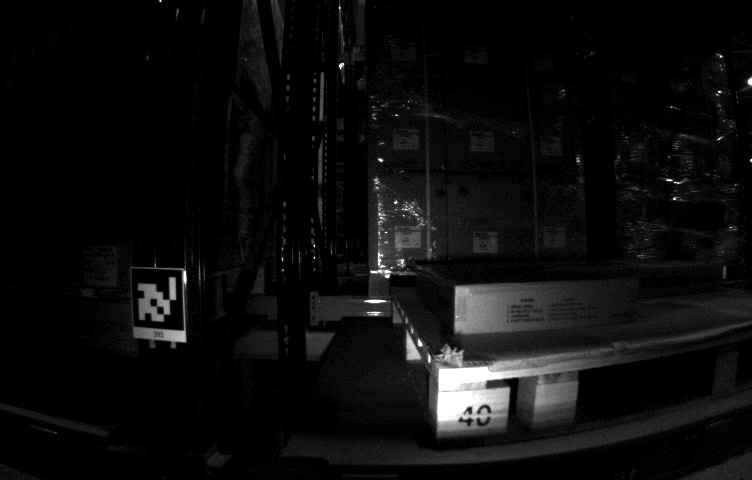True Barcode: (82, 244, 116, 286)
